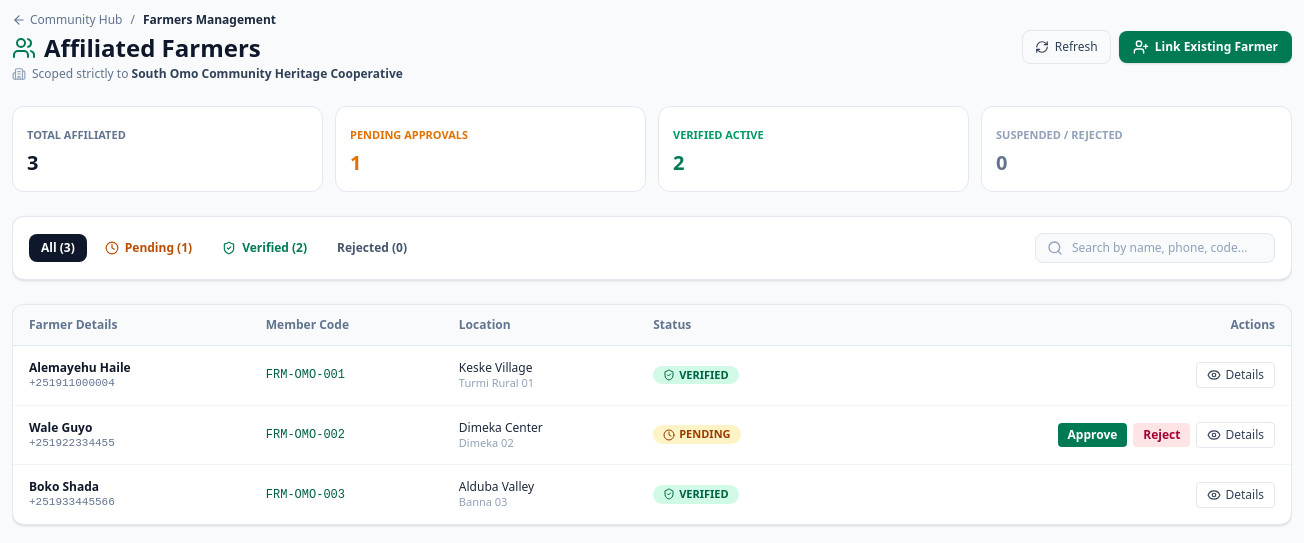
Test: Farmers Management & Enterprise Isolation (F-802) › filters farmers by search query (name, code, village)
Check: the text "Alemayehu Haile" is shown, box [29, 359, 131, 376]
Check: the text "Wale Guyo" is shown, box [29, 419, 92, 436]
Type "FRM-OMO-001" into the field with test id "farmer-search-input" at (1155, 248), box [1035, 233, 1275, 263]
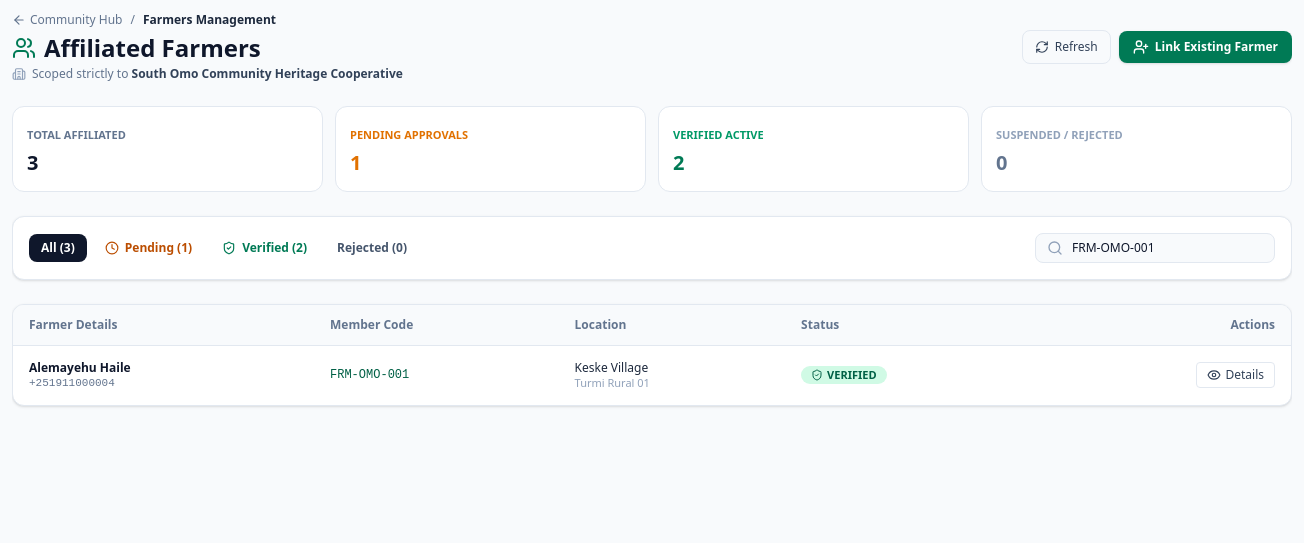
Check: the text "Alemayehu Haile" is shown, box [29, 359, 131, 376]
Check: the text "Wale Guyo" is gone
